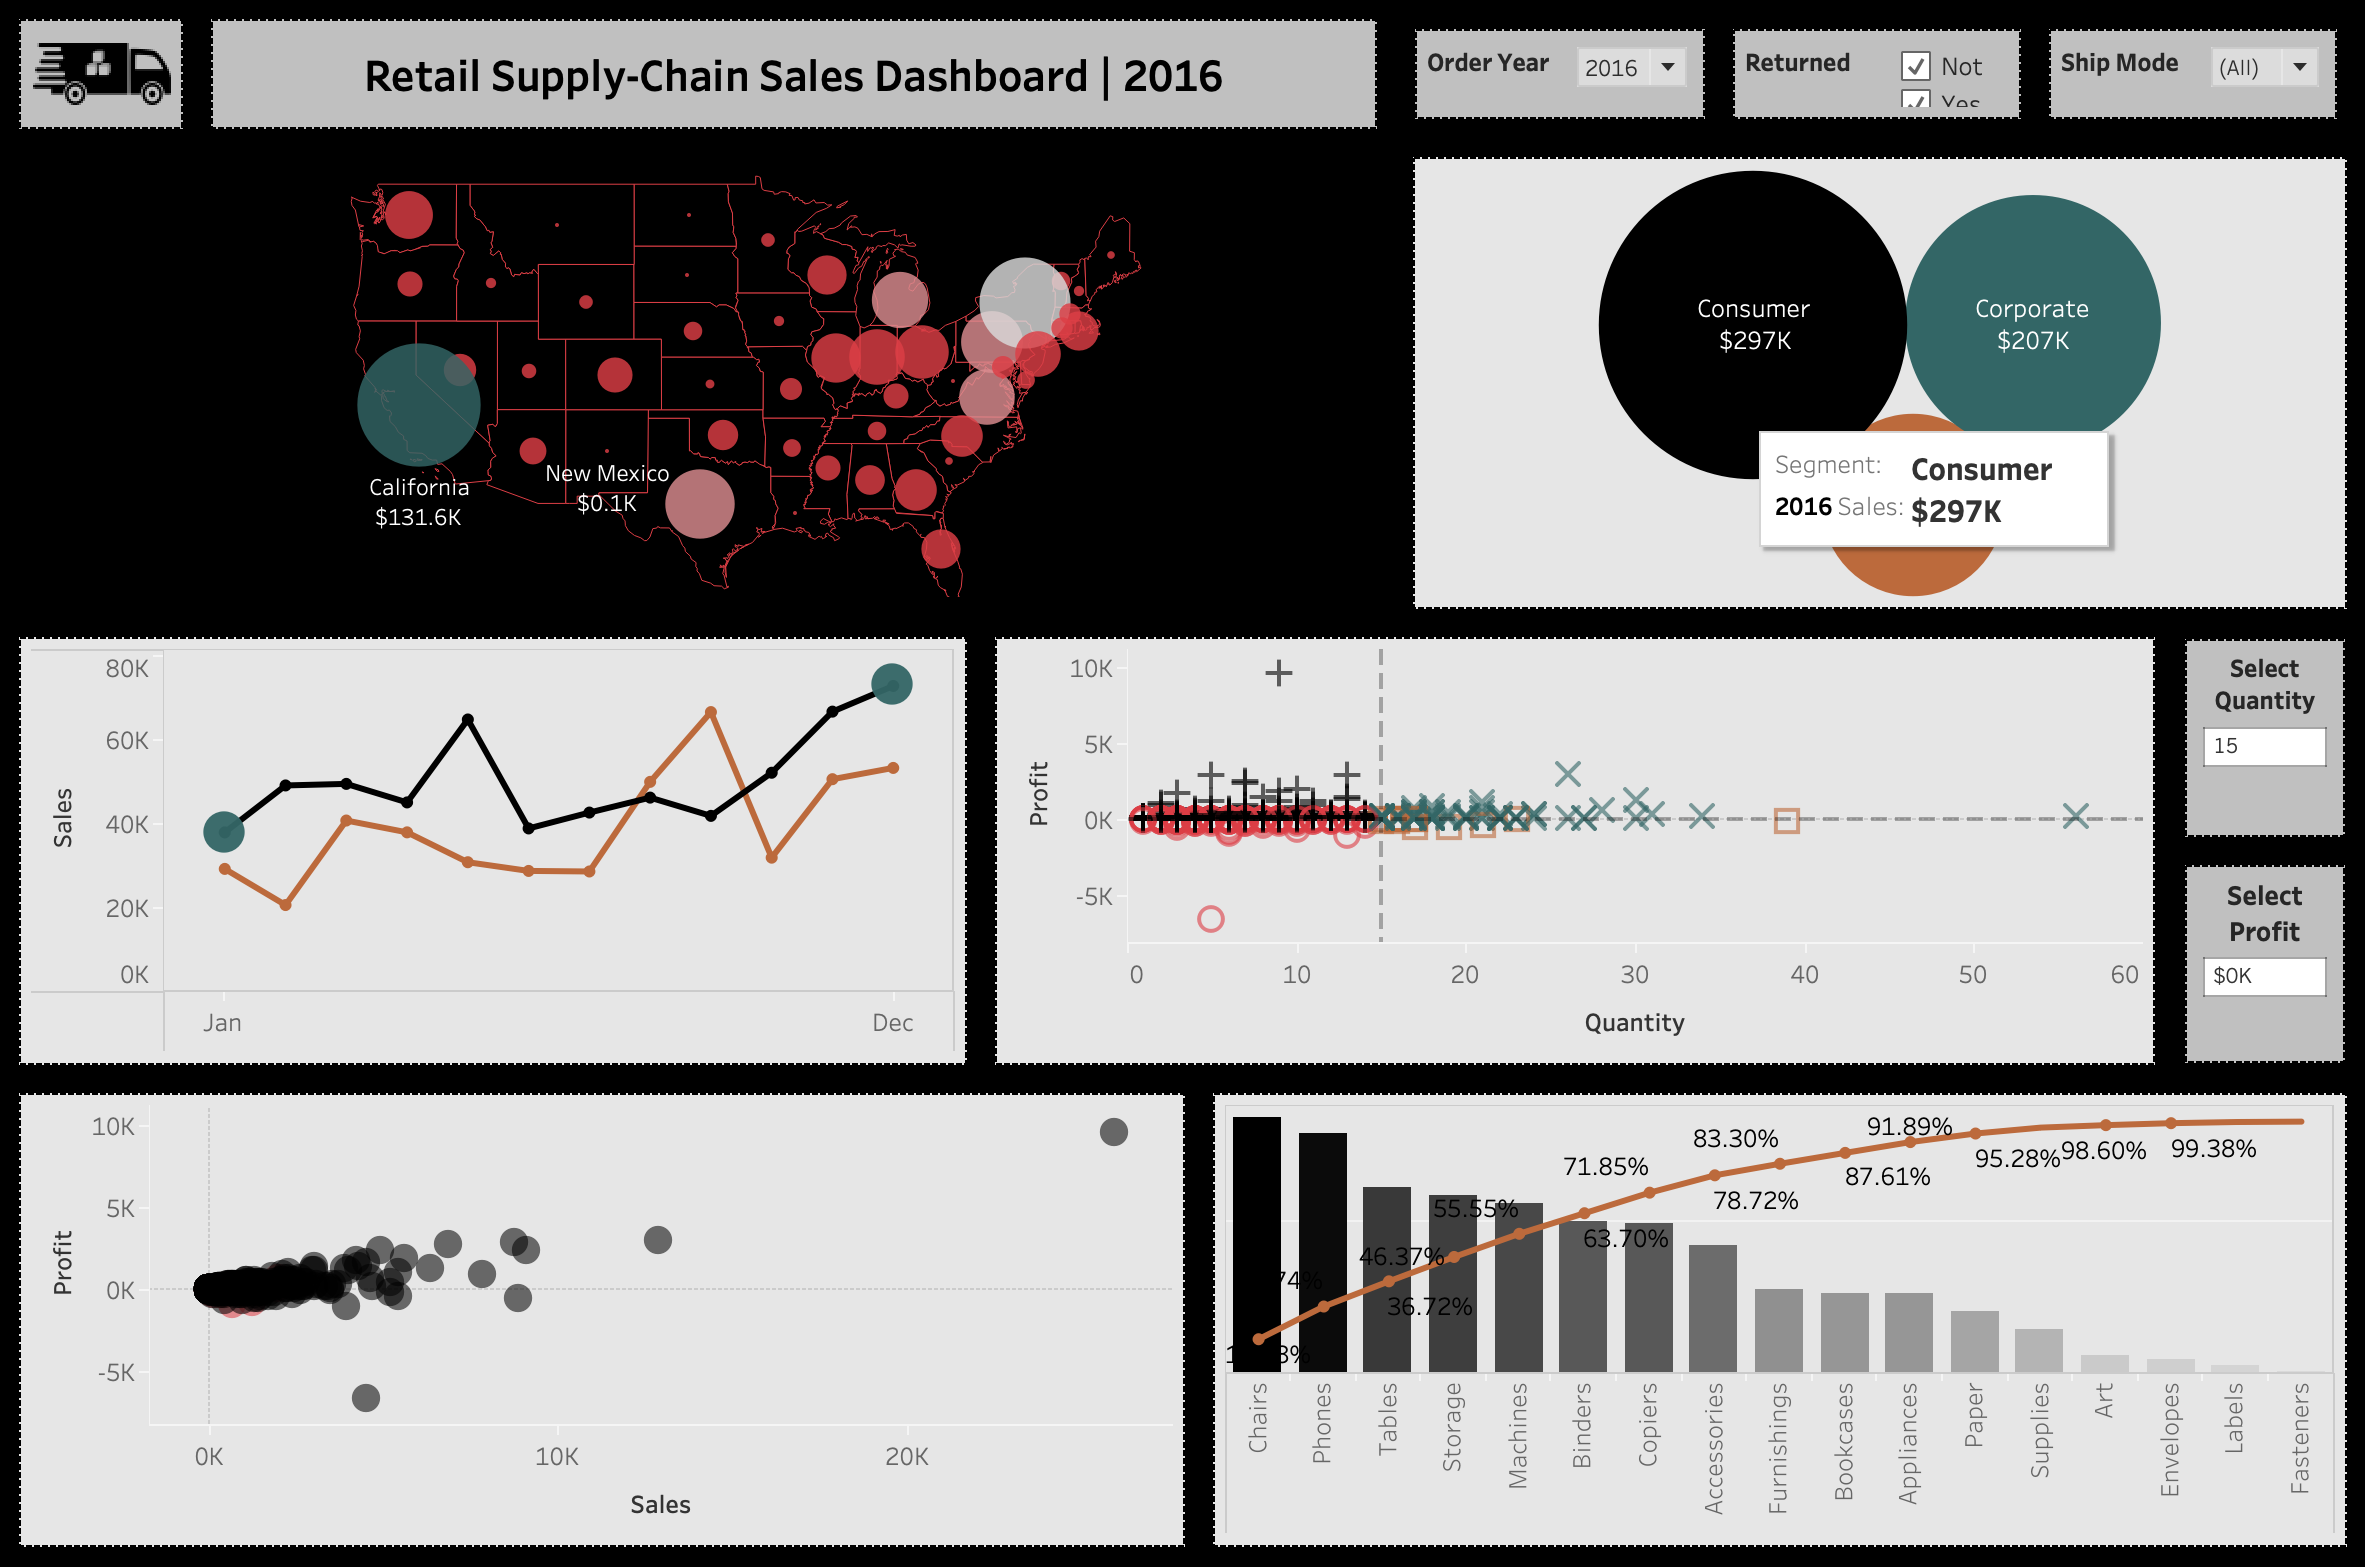

Layout of this report page (visuals, bound fields, positions):
{"tool":"tableau","page":{"name":"Supply Chain Sales Dashboard","canvas":[1200,800],"ordinal":1},"visuals":[{"type":"dashboard-object","box":[11,11,96,69]},{"type":"text","box":[107,11,597.4,69]},{"type":"parameter","param":"[Parameters].[Parameter 2]","box":[709,16,159,59]},{"type":"filter","title":"Sales-Profit Distribution","param":"[federated.1r2zmz30o6xx7a1brqhdf0vvpog4].[none:Returned:nk]","box":[868,16,158,59]},{"type":"filter","title":"High Consumer Sales","param":"[federated.1r2zmz30o6xx7a1brqhdf0vvpog4].[none:Ship Mode:nk]","box":[1026,16,158,59]},{"type":"worksheet","title":"Sales Map","mark":"Multipolygon","box":[11,80,697,240.5]},{"type":"worksheet","title":"High Consumer Sales","mark":"Circle","box":[708,80,481,240.5]},{"type":"worksheet","title":"Sales Over Time","mark":"Line","rows":["Max/Min Customers (copy)_0068890685366275"],"cols":["Order Date"],"box":[11,320.5,488,228]},{"type":"worksheet","title":"Profit-Quantity Distribution","mark":"Shape","rows":["Calculation_0075342133313536"],"cols":["Calculation_0075342133608449"],"box":[499,320.5,594,228]},{"type":"parameter","param":"[Parameters].[Parameter 3]","box":[1094,321,94,113]},{"type":"parameter","param":"[Parameters].[Parameter 4]","box":[1094,434,94,113]},{"type":"worksheet","title":"Sales-Profit Distribution","mark":"Circle","rows":["Calculation_0075342133313536"],"cols":["Calculation_0202885421723653"],"box":[11,548.5,597,240.5]},{"type":"worksheet","title":"80/20 Rule","mark":"Bar","rows":["Calculation_0202885421723653","Calculation_0202885421723653"],"cols":["Sub-Category"],"box":[608,548.5,581,240.5]}]}

Visuals, with their boxes in screenshot pixels (x1, y1, x2, y2), scaled from the page's 1200x800 canvas onto the 2365x1567 screenshot:
dashboard-object: (x1=22, y1=22, x2=211, y2=157)
text: (x1=211, y1=22, x2=1388, y2=157)
parameter: (x1=1397, y1=31, x2=1711, y2=147)
"Sales-Profit Distribution" filter: (x1=1711, y1=31, x2=2022, y2=147)
"High Consumer Sales" filter: (x1=2022, y1=31, x2=2333, y2=147)
"Sales Map" worksheet (Multipolygon marks): (x1=22, y1=157, x2=1395, y2=628)
"High Consumer Sales" worksheet (Circle marks): (x1=1395, y1=157, x2=2343, y2=628)
"Sales Over Time" worksheet (Line marks): (x1=22, y1=628, x2=983, y2=1074)
"Profit-Quantity Distribution" worksheet (Shape marks): (x1=983, y1=628, x2=2154, y2=1074)
parameter: (x1=2156, y1=629, x2=2341, y2=850)
parameter: (x1=2156, y1=850, x2=2341, y2=1071)
"Sales-Profit Distribution" worksheet (Circle marks): (x1=22, y1=1074, x2=1198, y2=1545)
"80/20 Rule" worksheet (Bar marks): (x1=1198, y1=1074, x2=2343, y2=1545)
